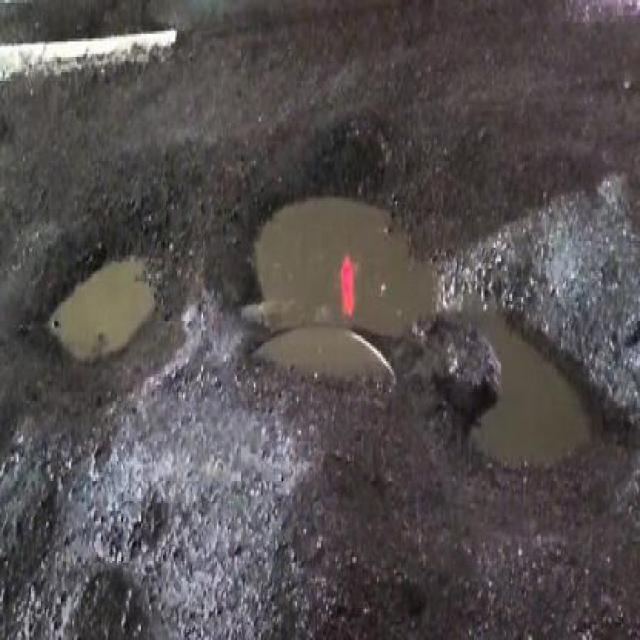Pothole: (232, 170, 443, 364), (435, 270, 623, 484), (35, 216, 173, 382)
